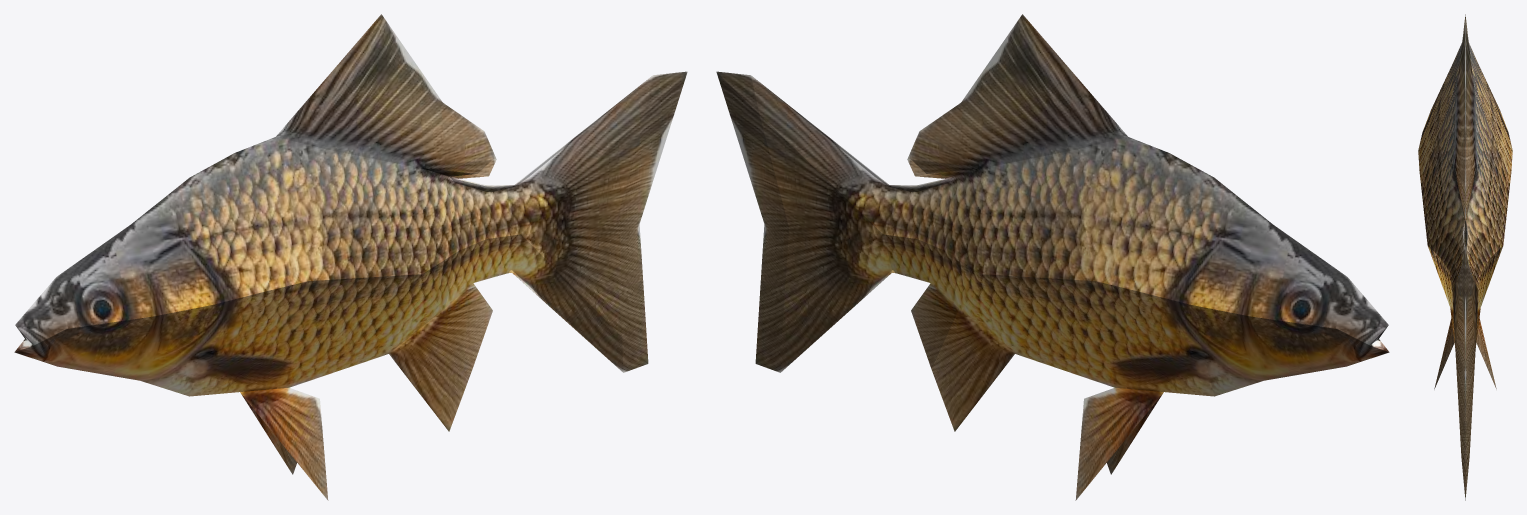
Rendered from FBX_Fish_Karas.fbx.
The picture shows the model from 3 angles, left to right: view 1: azimuth 30°, elevation 25°; view 2: azimuth 150°, elevation 25°; view 3: azimuth 270°, elevation 25°; orthographic projection. The views are drawn at different scales.
Visible parts, largest first — view 1: Plane.001; view 2: Plane.001; view 3: Plane.001.
Part boxes in pixels (x1,y1,x2,y2): Plane.001: (14,14,687,500); Plane.001: (716,14,1389,500); Plane.001: (1418,14,1512,500).
Bounding box in the file's own units: 4.49 × 2.91 × 0.6108.
1 material, 1 textured.
